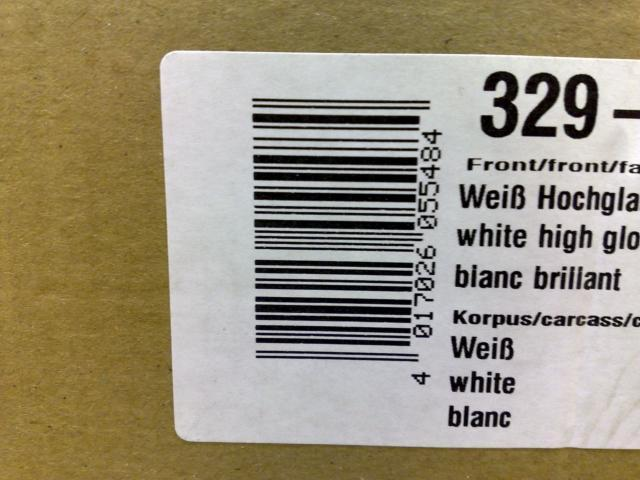Barcode: (228, 72, 449, 404)
